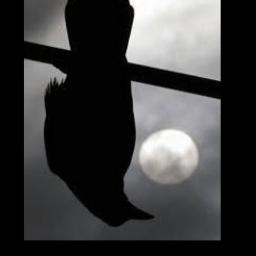Crow: (43, 0, 157, 228)
